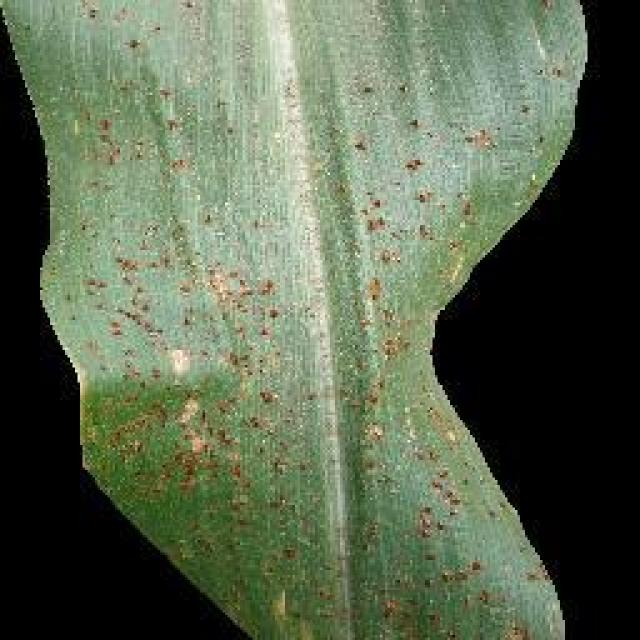Corn Common Rust: (80, 18, 477, 575)
